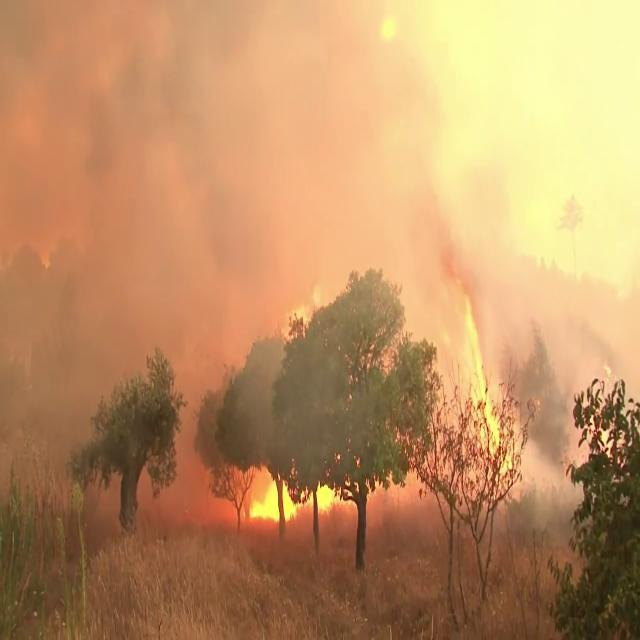Fire: (242, 454, 344, 530)
Smoke: (0, 1, 323, 464), (394, 0, 640, 477)
